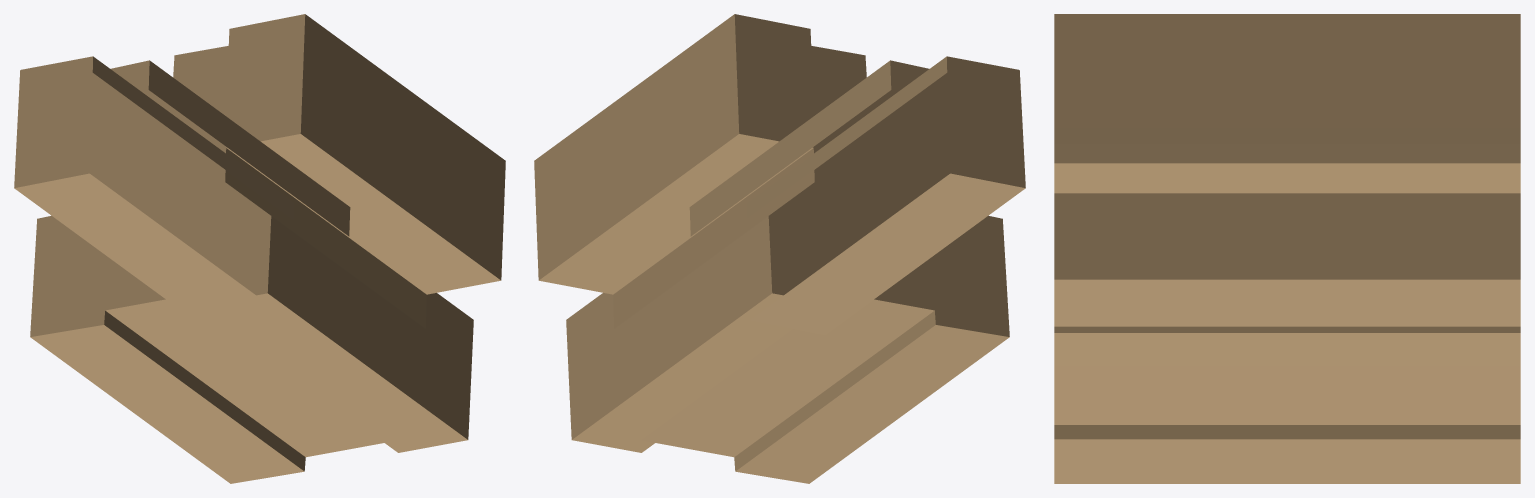
3 views of the same model, side by side, from view 1: azimuth 30°, elevation 25°; view 2: azimuth 150°, elevation 25°; view 3: azimuth 270°, elevation 25° (orthographic). The views are drawn at different scales.
Parts seen in each view (by area): view 1: 0_3_2_0_1_3_0_1_1_1; view 2: 0_3_2_0_1_3_0_1_1_1; view 3: 0_3_2_0_1_3_0_1_1_1.
Boxes of the visible parts, left/top/right/bottom form: 0_3_2_0_1_3_0_1_1_1: left=14, top=14, right=505, bottom=483; 0_3_2_0_1_3_0_1_1_1: left=534, top=14, right=1025, bottom=483; 0_3_2_0_1_3_0_1_1_1: left=1054, top=14, right=1520, bottom=483.
Bounding box in the file's own units: 25.14 × 23.41 × 30.
